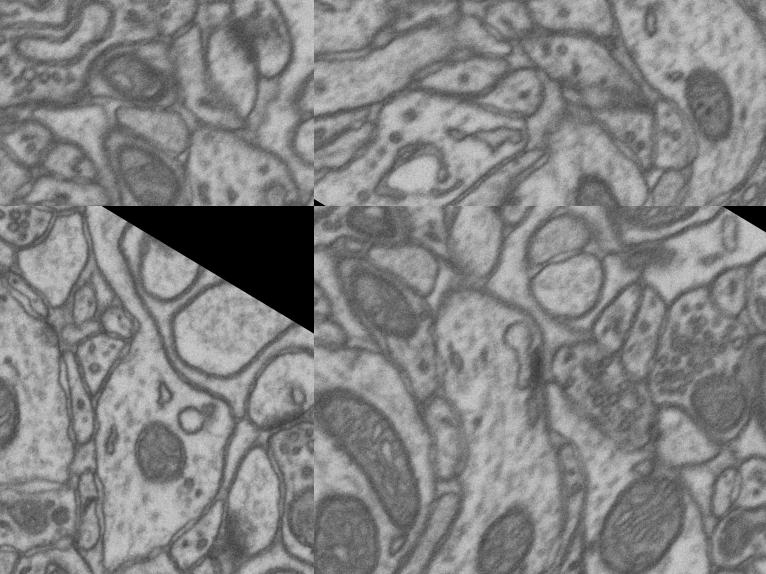mitochondria: (314, 371, 464, 543), (572, 452, 709, 574), (324, 254, 438, 357), (655, 54, 763, 161), (110, 407, 214, 510), (83, 29, 186, 126), (314, 470, 409, 574), (89, 122, 203, 206), (707, 310, 766, 469), (455, 485, 556, 574), (676, 369, 760, 450), (595, 206, 703, 265), (0, 355, 51, 477), (260, 460, 314, 568), (536, 158, 656, 206), (333, 206, 416, 259), (113, 553, 213, 574)
